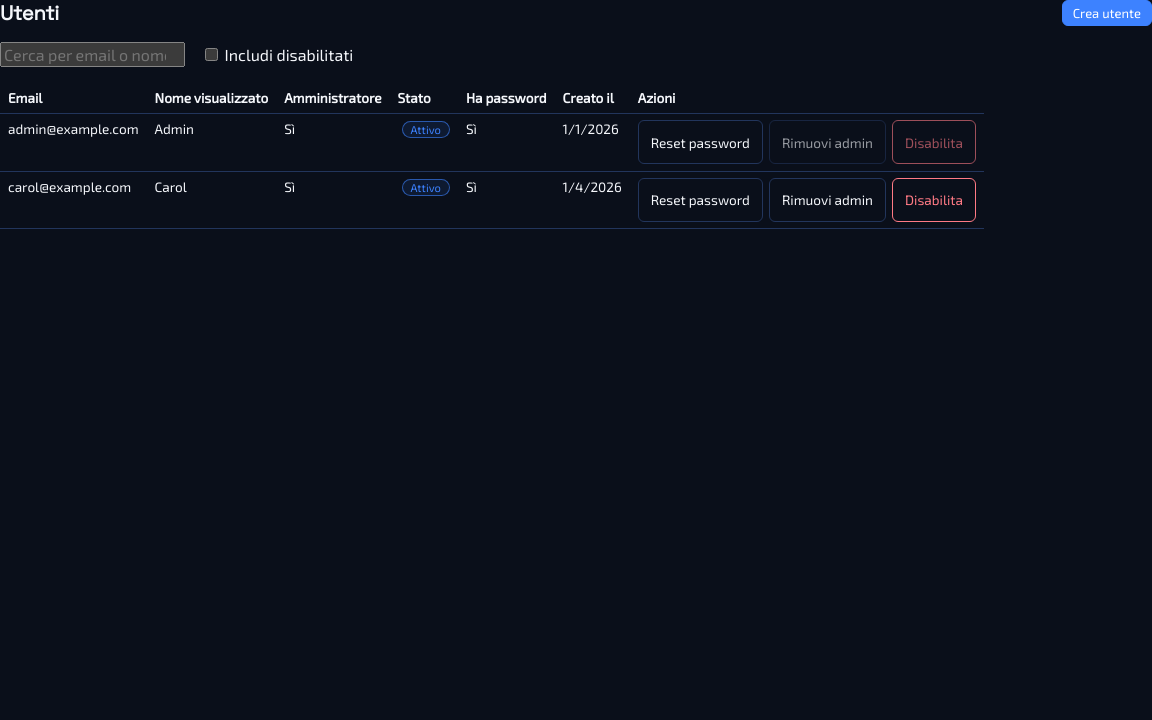
Scenario: AdminUsersPage › shows the last-admin conflict message returned by the backend
The width and height of the screenshot is (1152, 720).
Step 1. Click the button "Rimuovi admin" in the row of "carol@example.com" → (827, 200), box [769,178,886,222]
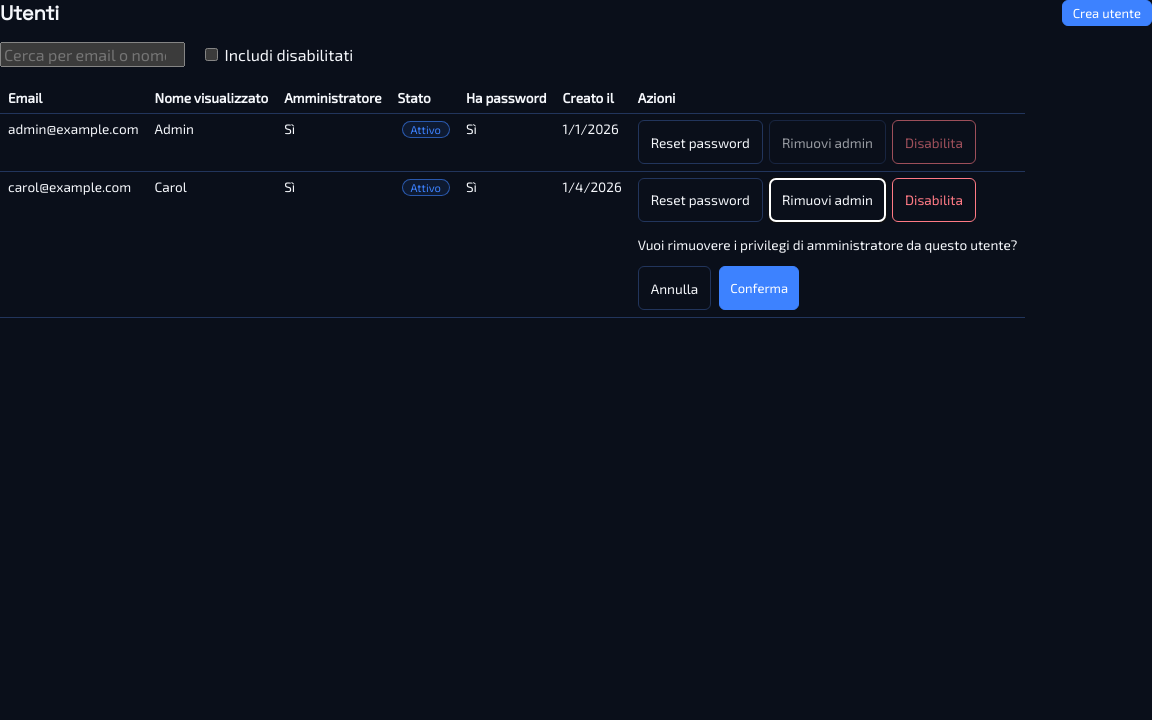
Step 2. Click the button "Conferma" → (759, 288), box [719,266,799,310]
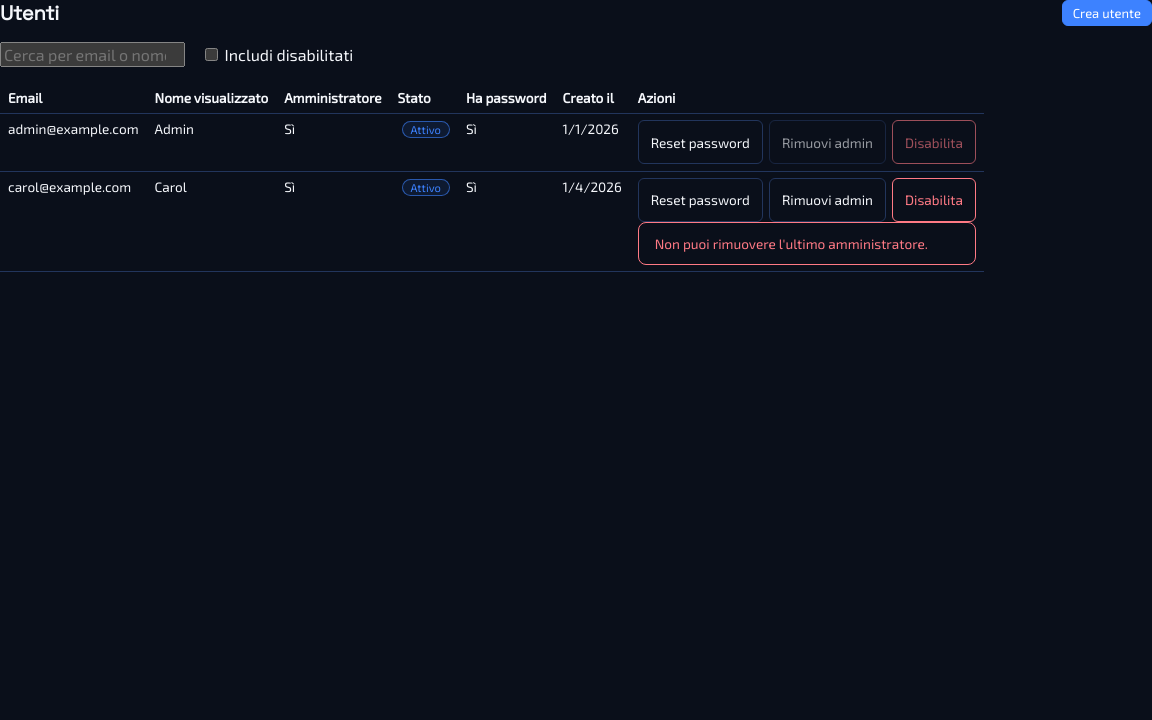
Check: the text "Non puoi rimuovere l'ultimo amministratore." is shown, box [638,222,976,265]
